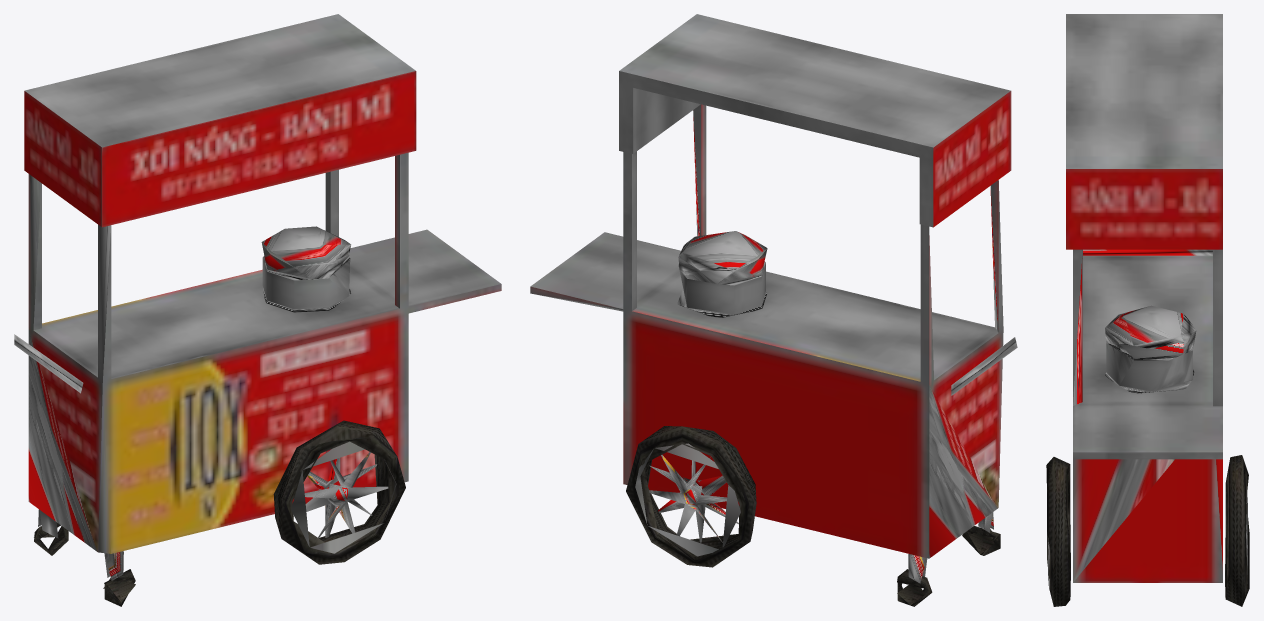
The model's file is xe-banh-mi.glb.
3 views of the same model, side by side, from view 1: azimuth 30°, elevation 25°; view 2: azimuth 150°, elevation 25°; view 3: azimuth 270°, elevation 25° (orthographic).
Parts seen in each view (by area): view 1: Cube.001_Material.001_0, Cube.001_Material.002_0; view 2: Cube.001_Material.001_0, Cube.001_Material.002_0; view 3: Cube.001_Material.001_0, Cube.001_Material.002_0.
Boxes of the visible parts, x1,y1,x2,y2 form: Cube.001_Material.001_0: [14, 14, 501, 602]; Cube.001_Material.002_0: [34, 420, 405, 606]; Cube.001_Material.001_0: [530, 14, 1017, 605]; Cube.001_Material.002_0: [626, 426, 1000, 606]; Cube.001_Material.001_0: [1048, 14, 1247, 585]; Cube.001_Material.002_0: [1046, 455, 1249, 606].
Bounding box in the file's own units: 0.9318 × 1 × 0.3894.
2 materials, 2 textured.
